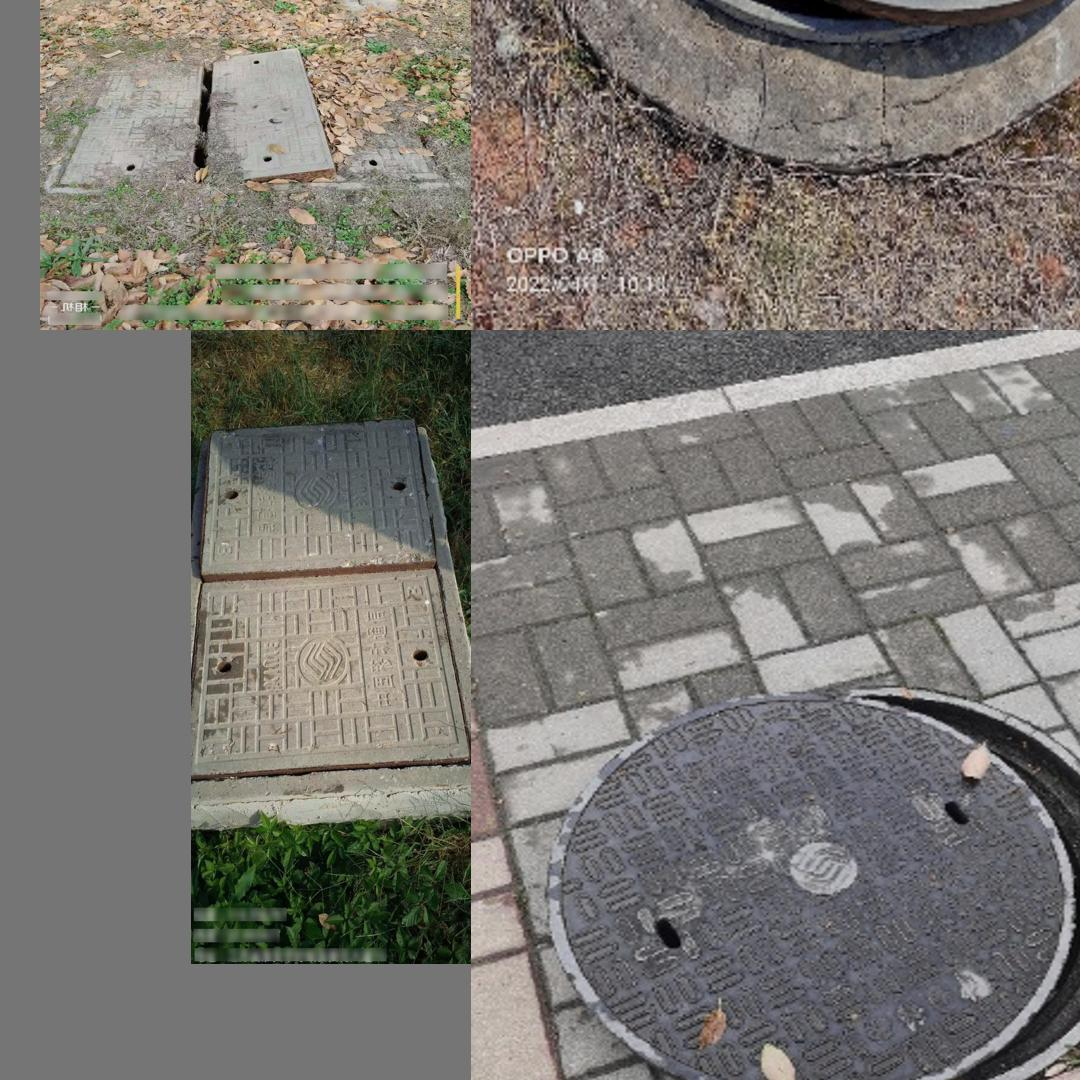uncovered: (547, 687, 1080, 1080), (191, 416, 471, 826), (46, 46, 463, 194), (597, 0, 1080, 47)
